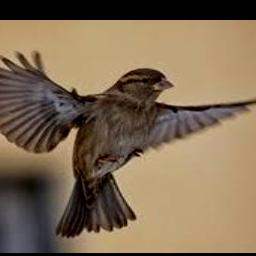Sparrow: (0, 50, 256, 237)
